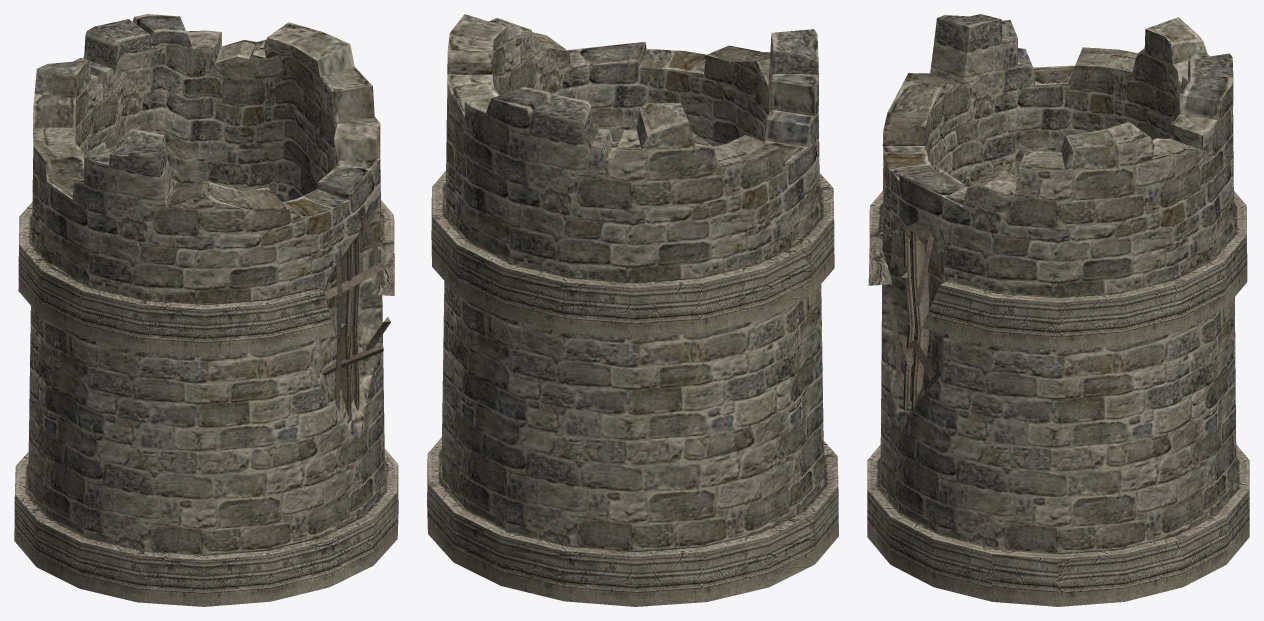
File: SM_Plains_CastleTower_Ruin_01.FBX
The picture shows the model from 3 angles, left to right: view 1: azimuth 30°, elevation 25°; view 2: azimuth 150°, elevation 25°; view 3: azimuth 270°, elevation 25°; orthographic projection. The views are drawn at different scales.
Visible parts, largest first — view 1: SM_Plains_CastleTower_Ruin_01a, SM_Plains_CastleTower_Ruin_01b; view 2: SM_Plains_CastleTower_Ruin_01a, SM_Plains_CastleTower_Ruin_01b; view 3: SM_Plains_CastleTower_Ruin_01a, SM_Plains_CastleTower_Ruin_01b.
Part boxes in pixels (x1,y1,x2,y2): SM_Plains_CastleTower_Ruin_01a: (28, 14, 384, 554); SM_Plains_CastleTower_Ruin_01b: (14, 200, 398, 606); SM_Plains_CastleTower_Ruin_01a: (441, 14, 824, 550); SM_Plains_CastleTower_Ruin_01b: (427, 171, 838, 606); SM_Plains_CastleTower_Ruin_01a: (880, 14, 1236, 553); SM_Plains_CastleTower_Ruin_01b: (867, 191, 1249, 606).
Bounding box in the file's own units: 143 × 178 × 137.
